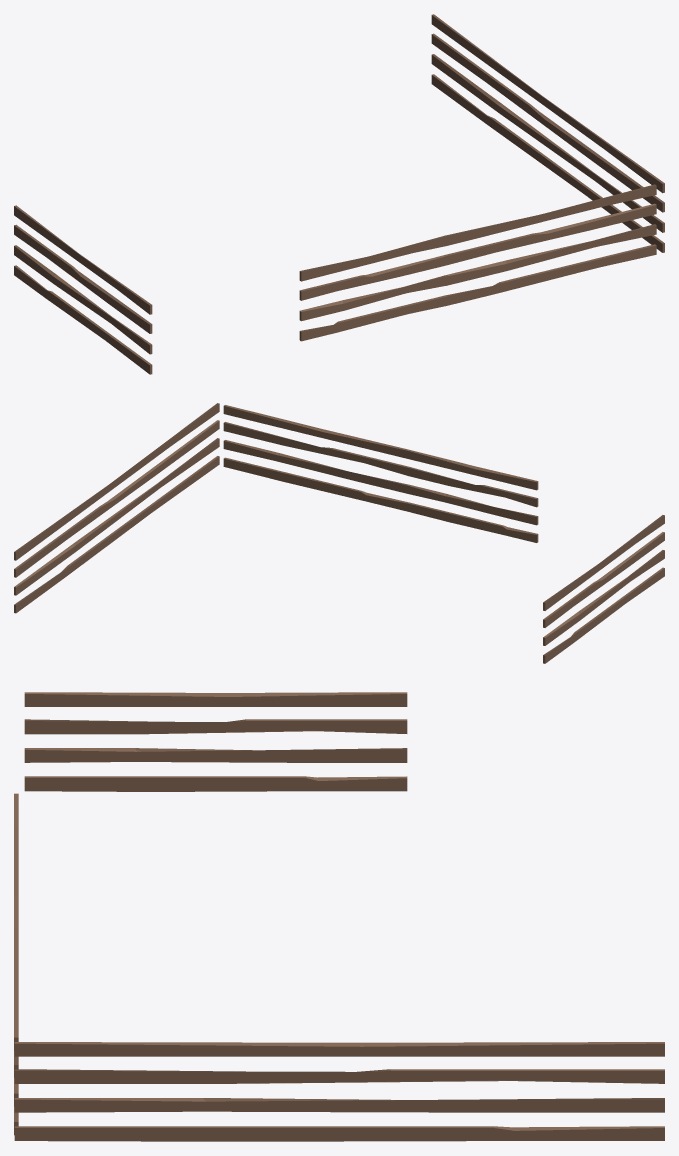
Rendered from BaiSeGeShan.fbx.
The picture shows the model from 3 angles, top to bottom: view 1: azimuth 30°, elevation 25°; view 2: azimuth 150°, elevation 25°; view 3: azimuth 270°, elevation 25°; orthographic projection. The views are drawn at different scales.
Visible parts, largest first — view 1: BaiSeGeShan; view 2: BaiSeGeShan; view 3: BaiSeGeShan.
Boxes of the visible parts, <box> form: BaiSeGeShan: <box>14,14,664,374</box>; BaiSeGeShan: <box>14,403,664,663</box>; BaiSeGeShan: <box>14,692,664,1141</box>.
Bounding box in the file's own units: 870 × 113 × 681.
